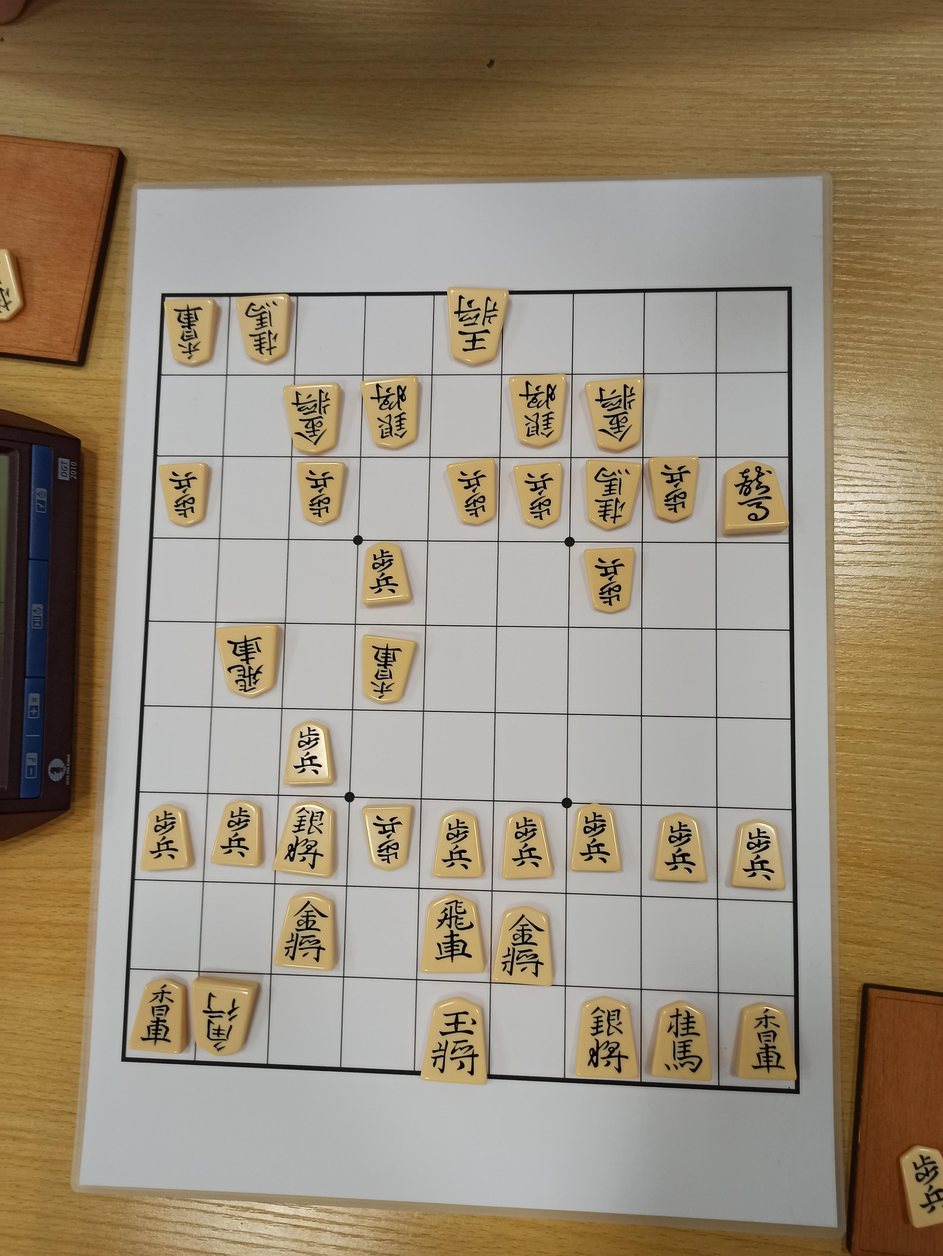board: (124, 288, 797, 1093)
